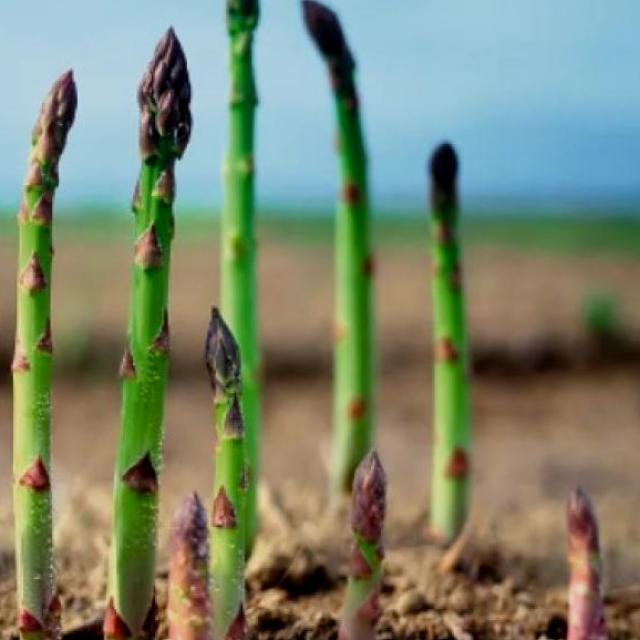aspargus: (112, 31, 188, 628), (11, 72, 76, 635), (338, 451, 387, 640)
